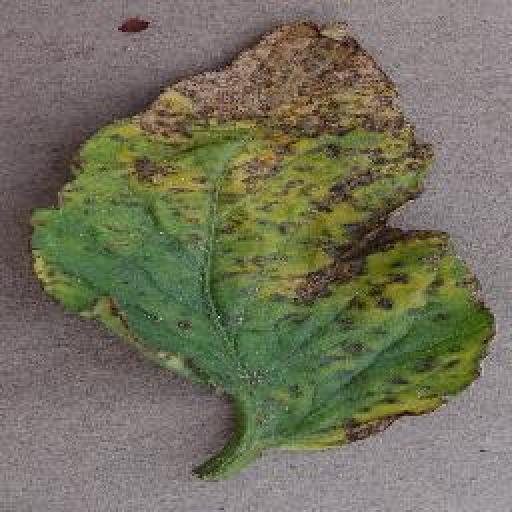Bacterial Spot: (23, 17, 500, 456)
